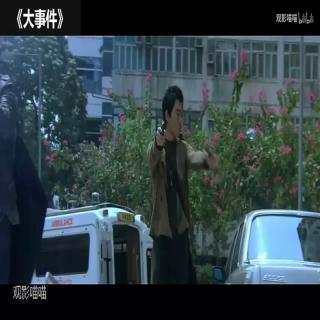gun: (151, 116, 167, 151)
